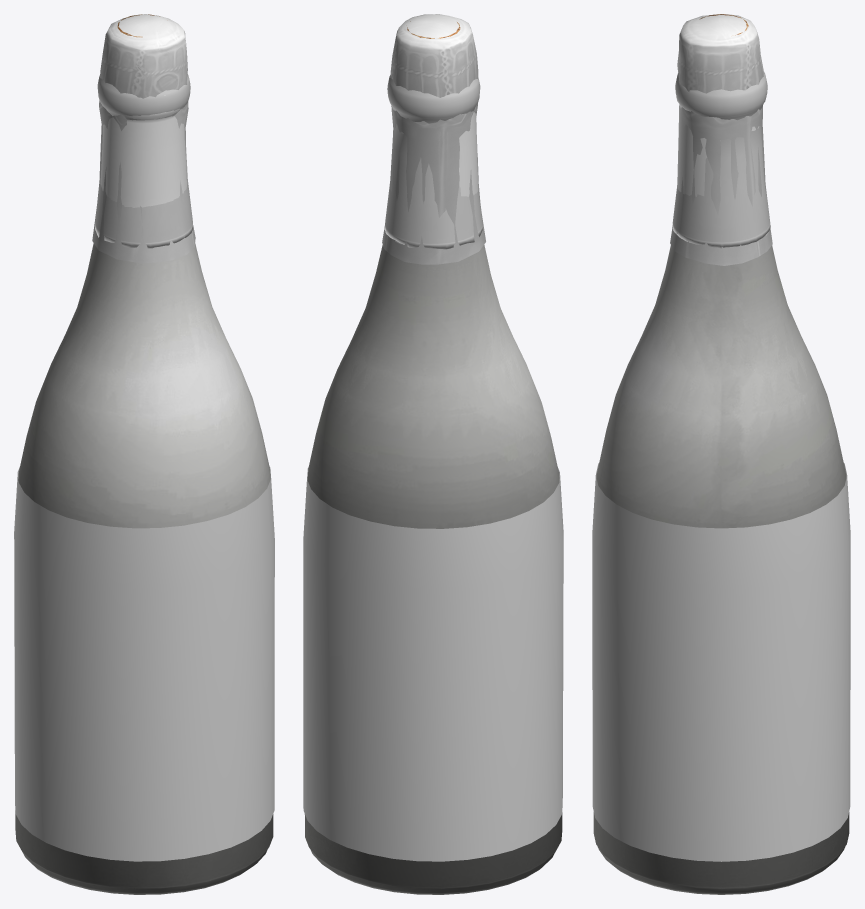
Rendered from Bourgogne_150cl.glb.
3 renders of one model, left to right at view 1: azimuth 30°, elevation 25°; view 2: azimuth 150°, elevation 25°; view 3: azimuth 270°, elevation 25°, orthographic.
Parts seen in each view (by area): view 1: label, bottiglia, champagneAluminium, longAluminium, longWax; view 2: label, bottiglia, champagneAluminium, longWax, longAluminium; view 3: label, bottiglia, champagneAluminium, longWax, longAluminium.
Boxes of the visible parts, x1,y1,x2,y2 form: label: (14,466,274,861); bottiglia: (15,243,273,894); champagneAluminium: (92,14,195,263); longAluminium: (100,95,187,207); longWax: (95,74,193,248); label: (303,467,563,861); bottiglia: (304,245,562,894); champagneAluminium: (382,14,485,264); longWax: (384,75,482,249); longAluminium: (390,112,478,244); label: (592,463,850,861); bottiglia: (593,245,849,894); champagneAluminium: (670,14,772,265); longWax: (672,72,770,248); longAluminium: (676,97,768,239).
Size of the model in its own units: 0.1074 by 0.3731 by 0.1062.
Materials: 8 (7 with a texture image).
